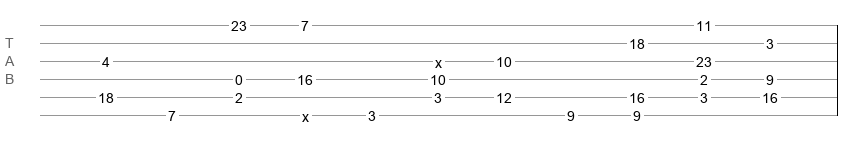0: (235, 72, 243, 82)
10: (430, 72, 446, 82), (496, 54, 512, 64)
11: (696, 18, 712, 28)
12: (496, 90, 512, 100)
16: (297, 72, 313, 82), (629, 90, 645, 100), (762, 90, 778, 100)
18: (98, 90, 114, 100), (629, 36, 645, 46)
2: (235, 90, 243, 100), (700, 72, 708, 82)
23: (231, 18, 247, 28), (696, 54, 712, 64)
3: (368, 108, 376, 118), (434, 90, 442, 100), (700, 90, 708, 100), (766, 36, 774, 46)
4: (102, 54, 110, 64)
7: (168, 108, 176, 118), (301, 18, 309, 28)
9: (567, 108, 575, 118), (633, 108, 641, 118), (766, 72, 774, 82)
x: (302, 109, 309, 117), (435, 55, 442, 63)
